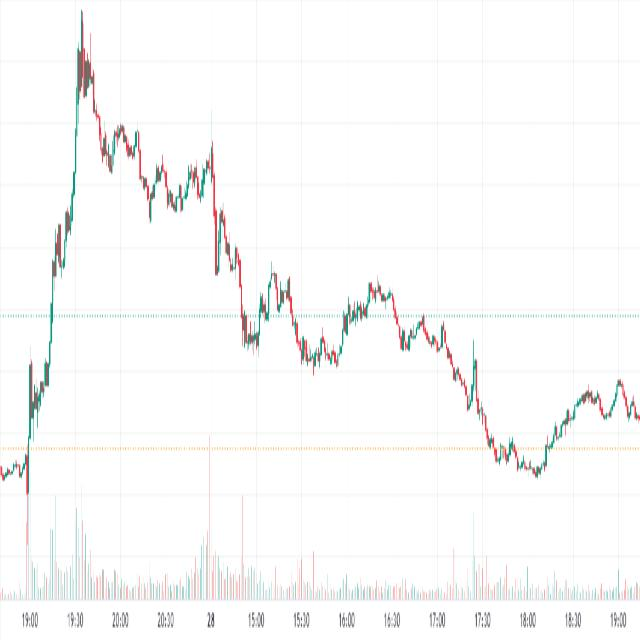Descending-Triangle: (41, 0, 512, 377)
Double-Bottom: (396, 316, 415, 363)
Double-Top: (183, 144, 217, 218), (497, 429, 520, 484)
Head-Shoulders: (41, 9, 156, 316), (251, 253, 301, 362)
Rounding-Bottom: (282, 258, 358, 394)
